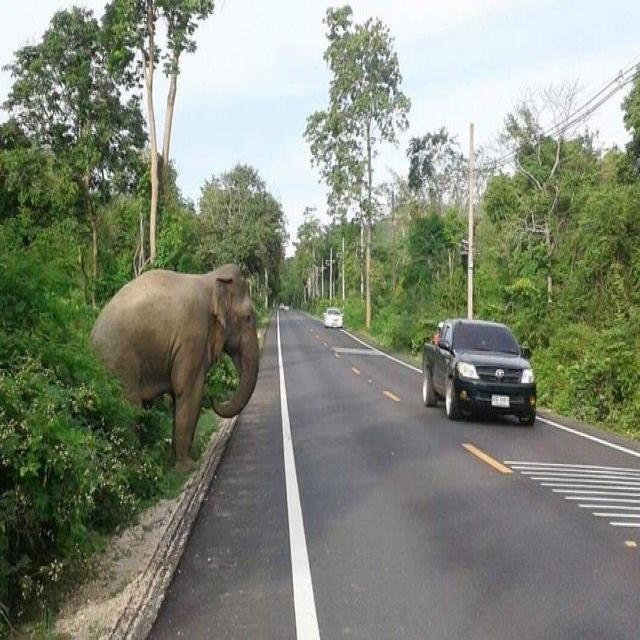Elephant: (88, 257, 267, 481)
